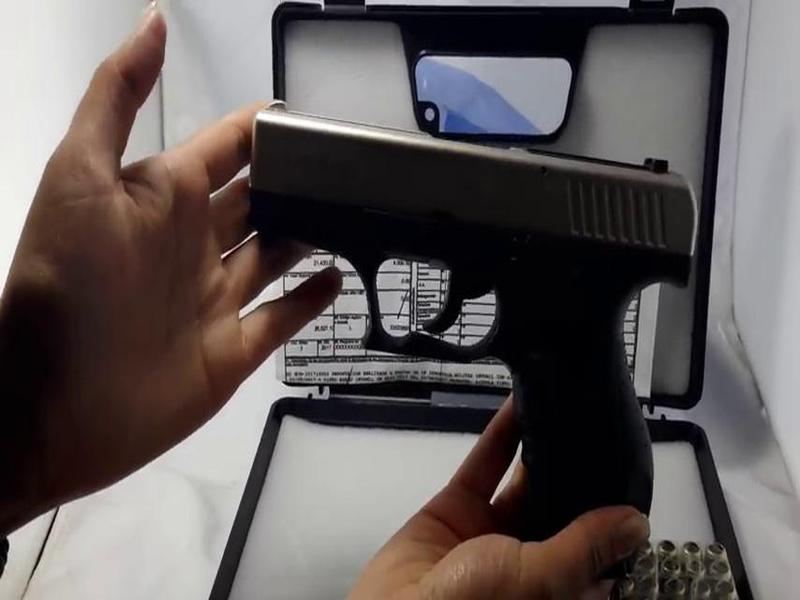Pistola: (240, 80, 730, 576)
